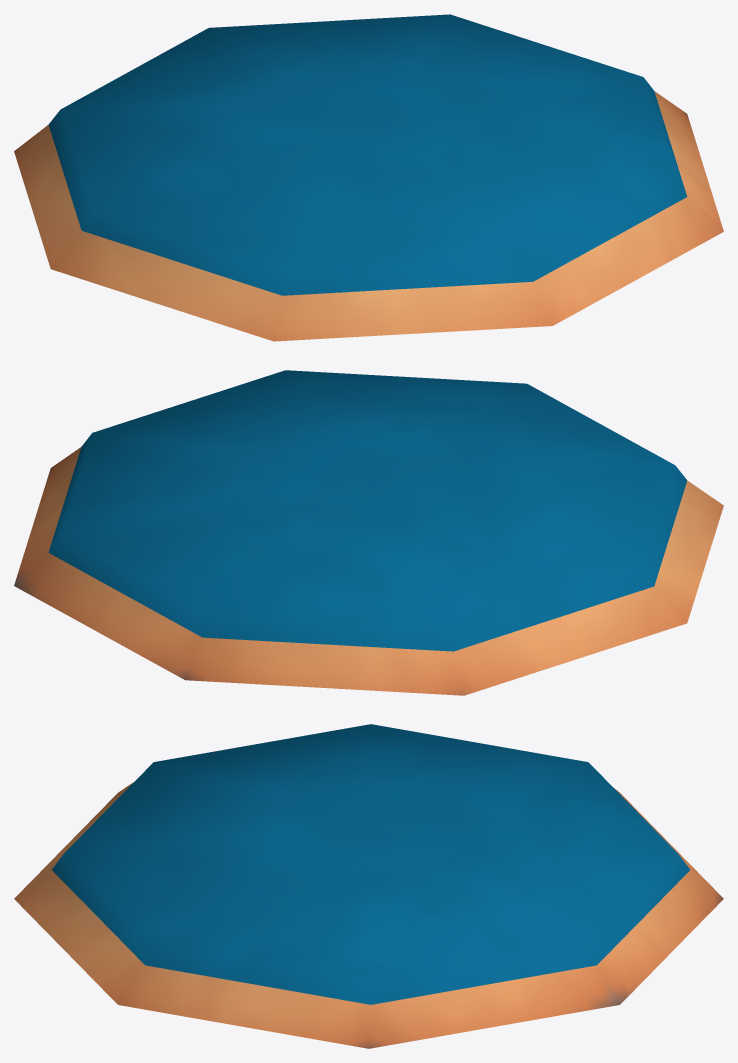
Rendered from Cookie_Frosted_B.FBX.
3 views of the same model, one above another, from view 1: azimuth 30°, elevation 25°; view 2: azimuth 150°, elevation 25°; view 3: azimuth 270°, elevation 25° (orthographic). The views are drawn at different scales.
Visible parts, largest first — view 1: Cookie_02; view 2: Cookie_02; view 3: Cookie_02.
Part boxes in pixels (left/top/right/bottom): Cookie_02: left=14, top=14, right=723, bottom=341; Cookie_02: left=14, top=370, right=723, bottom=695; Cookie_02: left=14, top=724, right=723, bottom=1048.
Size of the model in its own units: 49.4 by 5.43 by 49.4.
